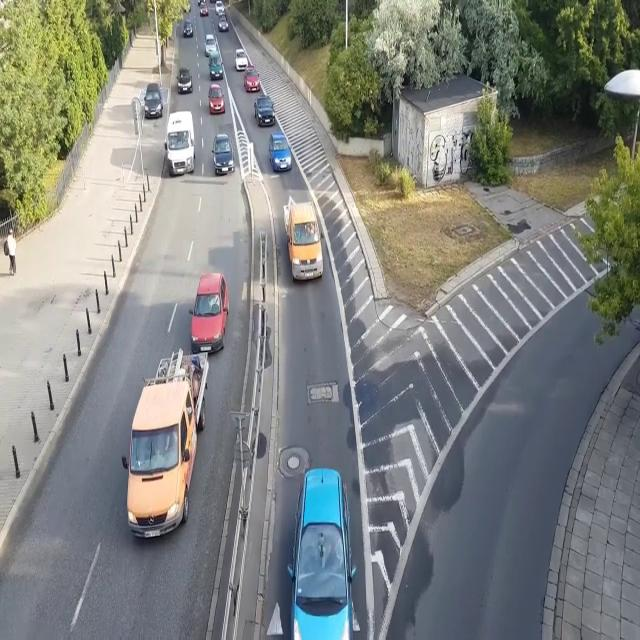car: (288, 465, 356, 640), (187, 271, 229, 354), (267, 130, 294, 173), (211, 133, 236, 174), (142, 83, 164, 120), (254, 97, 276, 128), (208, 84, 225, 115), (176, 65, 193, 94), (207, 55, 224, 81), (243, 67, 260, 93), (204, 31, 217, 56), (234, 49, 248, 71), (182, 20, 195, 38), (217, 14, 229, 32), (215, 1, 225, 14), (199, 4, 208, 17), (197, 0, 206, 5)
truck: (120, 347, 209, 543), (282, 193, 325, 283)
van: (165, 110, 195, 176)
